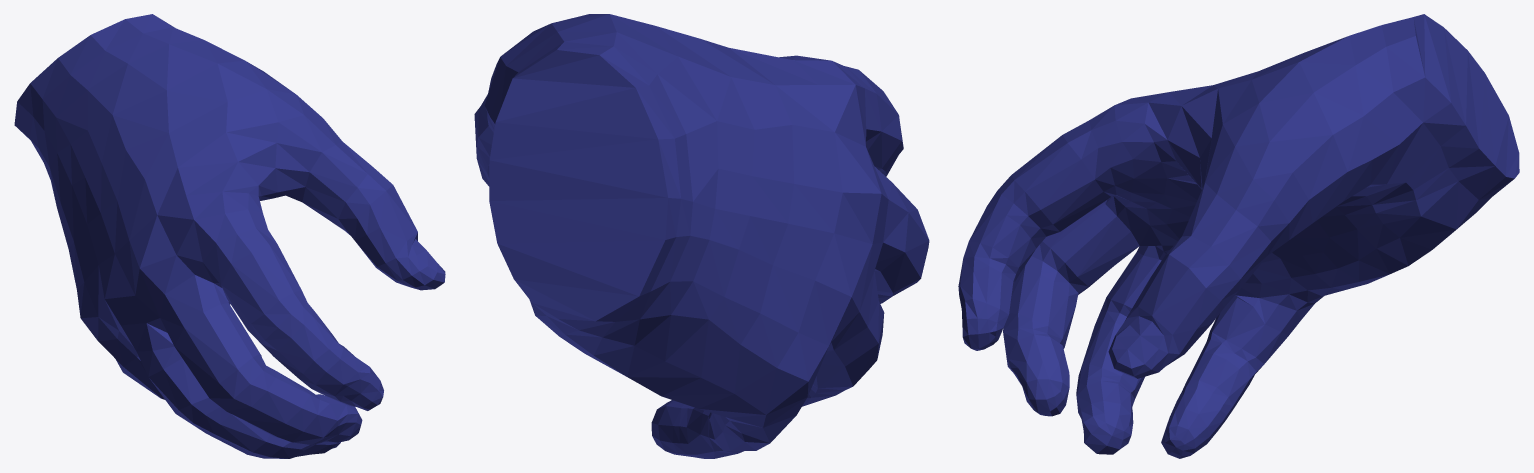
3 views of the same model, side by side, from view 1: azimuth 30°, elevation 25°; view 2: azimuth 150°, elevation 25°; view 3: azimuth 270°, elevation 25° (orthographic). The views are drawn at different scales.
Size of the model in its own units: 0.1097 by 0.1272 by 0.1577.
